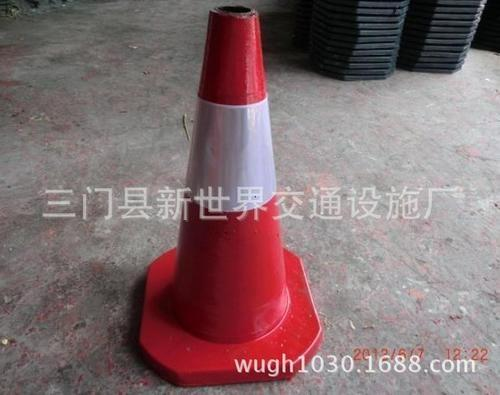cone_barrel: (163, 10, 311, 364)
